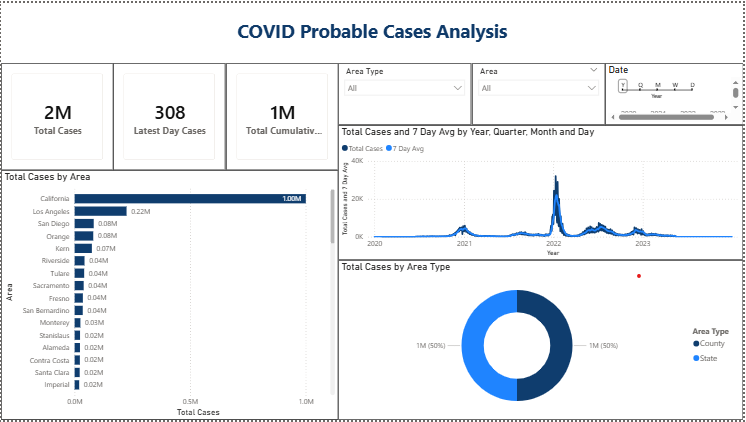

This screenshot's page, from the dashboard's own definition file:
{"tool":"powerbi","page":{"name":"Page 1","canvas":[1280,720],"ordinal":0},"visuals":[{"type":"barChart","fields":{"Y":["COVID19_Data.Total Cases"],"Category":["COVID19_Data.area"]},"box":[0,288.1,582.1,431.3],"z":0},{"type":"cardVisual","fields":{"Data":["COVID19_Data.Total Cumulative Cases"]},"box":[388.1,103,194,185.1],"z":1000},{"type":"cardVisual","fields":{"Data":["COVID19_Data.Latest Day Cases"]},"box":[194,103,194,185.1],"z":2000},{"type":"lineChart","fields":{"Y":["COVID19_Data.Total Cases","Date Table.7 Day Avg"],"Category":["Date Table.Date.Variation.Date Hierarchy.Year","Date Table.Date.Variation.Date Hierarchy.Quarter","Date Table.Date.Variation.Date Hierarchy.Month","Date Table.Date.Variation.Date Hierarchy.Day"]},"box":[582.1,210.4,698.5,232.8],"z":3000},{"type":"donutChart","fields":{"Category":["COVID19_Data.area_type"],"Y":["COVID19_Data.Total Cases"]},"box":[582.1,443.3,698.5,276.1],"z":4000},{"type":"cardVisual","fields":{"Data":["COVID19_Data.Total Cases"]},"box":[0,103,194,185.1],"z":5000},{"type":"Timeline1447991079100","fields":{"Time":["Date Table.Date"]},"box":[1041.8,103,238.8,107.5],"z":5001},{"type":"slicer","fields":{"Values":["COVID19_Data.area"]},"box":[811.9,103,229.9,107.5],"z":5002},{"type":"slicer","fields":{"Values":["COVID19_Data.area_type"]},"box":[582.1,103,229.9,107.5],"z":5003},{"type":"textbox","box":[0,20.9,1280.6,82.1],"z":5004}]}

Visuals, with their boxes in screenshot pixels (x1, y1, x2, y2), scaled from the page's 1280x720 canvas onto the 746x422 screenshot:
barChart - COVID19_Data.Total Cases x COVID19_Data.area: (x1=0, y1=169, x2=339, y2=421)
cardVisual - COVID19_Data.Total Cumulative Cases: (x1=226, y1=60, x2=339, y2=169)
cardVisual - COVID19_Data.Latest Day Cases: (x1=113, y1=60, x2=226, y2=169)
lineChart - COVID19_Data.Total Cases x Date Table.7 Day Avg: (x1=339, y1=123, x2=745, y2=260)
donutChart - COVID19_Data.area_type x COVID19_Data.Total Cases: (x1=339, y1=260, x2=745, y2=421)
cardVisual - COVID19_Data.Total Cases: (x1=0, y1=60, x2=113, y2=169)
Timeline1447991079100 - Date Table.Date: (x1=607, y1=60, x2=745, y2=123)
slicer - COVID19_Data.area: (x1=473, y1=60, x2=607, y2=123)
slicer - COVID19_Data.area_type: (x1=339, y1=60, x2=473, y2=123)
textbox: (x1=0, y1=12, x2=745, y2=60)
